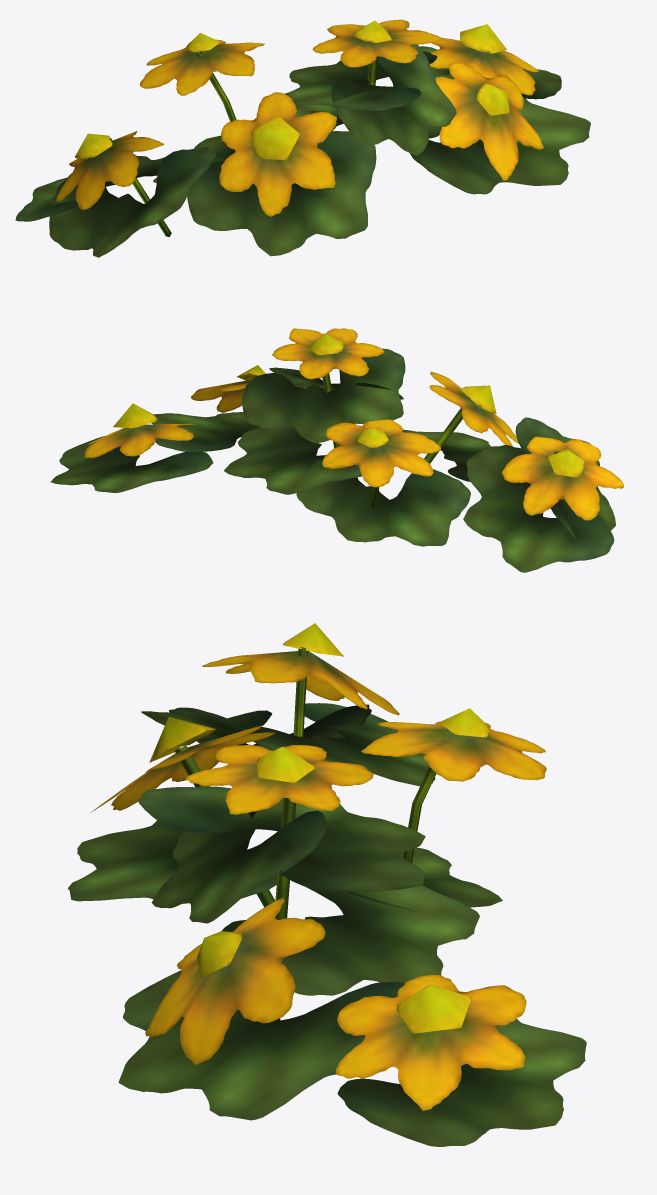
The model's file is S_Plant_Yellow012.FBX.
3 renders of one model, top to bottom at view 1: azimuth 30°, elevation 25°; view 2: azimuth 150°, elevation 25°; view 3: azimuth 270°, elevation 25°, orthographic. The views are drawn at different scales.
Parts seen in each view (by area): view 1: S_Plant_Yellow012; view 2: S_Plant_Yellow012; view 3: S_Plant_Yellow012.
Boxes of the visible parts, <box> form: S_Plant_Yellow012: <box>15,19,590,257</box>; S_Plant_Yellow012: <box>50,328,624,572</box>; S_Plant_Yellow012: <box>68,623,586,1146</box>.
Size of the model in its own units: 1701 by 499 by 999.
1 material, 1 textured.
